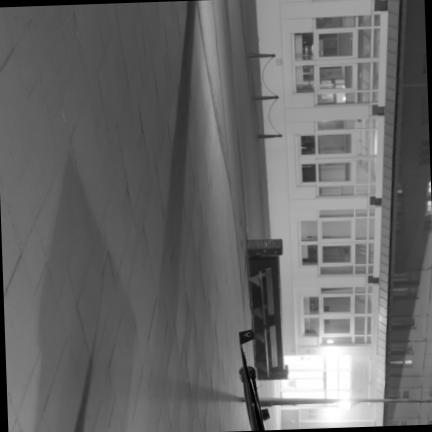Shahed: (238, 330, 268, 431)
